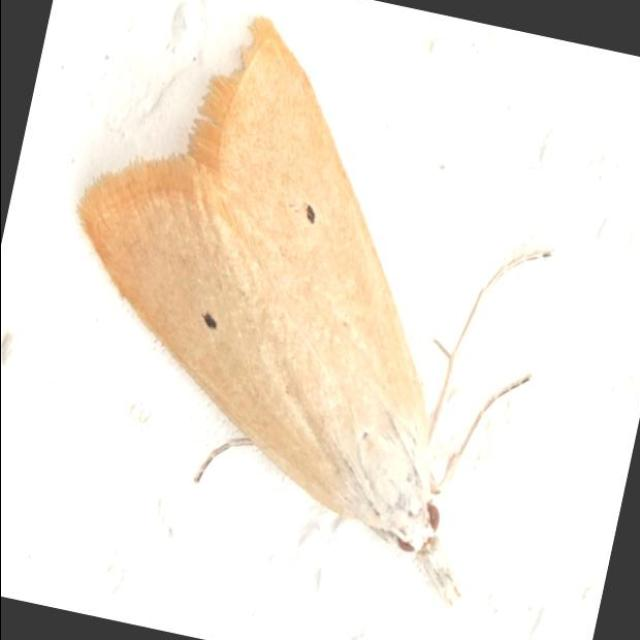stem borer: (82, 20, 570, 625)
